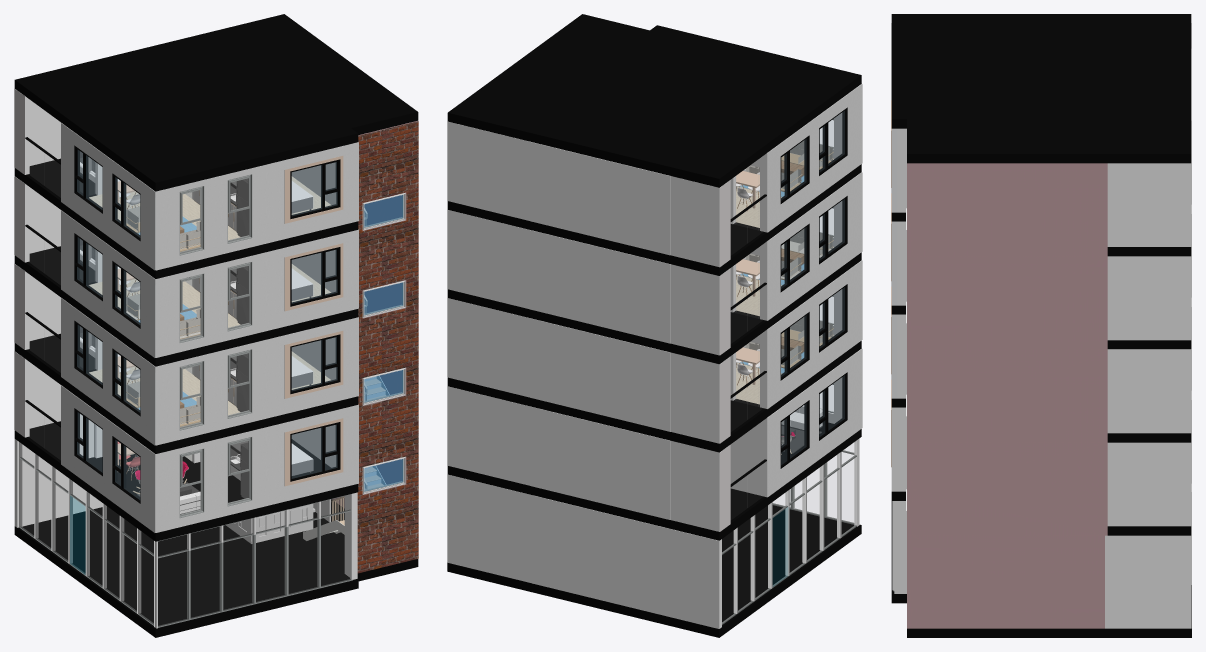
The picture shows the model from 3 angles, left to right: view 1: azimuth 30°, elevation 25°; view 2: azimuth 150°, elevation 25°; view 3: azimuth 270°, elevation 25°; orthographic projection. The views are drawn at different scales.
Visible parts, largest first — view 1: Cube.060, Plane.002, Plane, FamilyInstance Doors MAHG_Suite Door_Ext_Double_Sliding <63, Plane.009, Plane.013, Basic Wall iW2w - 6" WOOD WALL [632022], FamilyInstance Furniture M_Sofa-Corbu <662053 Sofa<, Cube.012; view 2: Cube.060, Plane.002, FamilyInstance Doors MAHG_Suite Door_Ext_Double_Sliding <63, Plane.009, Plane.013, FamilyInstance Furniture M_Sofa-Corbu <662053 Sofa<; view 3: Cube.060, Plane.009.
Part boxes in pixels (x1=…): Cube.060: x1=14, y1=14, x2=418, y2=637; Plane.002: x1=61, y1=123, x2=358, y2=532; Plane: x1=357, y1=121, x2=418, y2=573; FamilyInstance Doors MAHG_Suite Door_Ext_Double_Sliding <63: x1=44, y1=150, x2=403, y2=574; Plane.009: x1=14, y1=89, x2=358, y2=445; Plane.013: x1=89, y1=176, x2=331, y2=415; Basic Wall iW2w - 6" WOOD WALL [632022]: x1=62, y1=123, x2=330, y2=543; FamilyInstance Furniture M_Sofa-Corbu <662053 Sofa<: x1=126, y1=206, x2=200, y2=424; Cube.012: x1=194, y1=190, x2=236, y2=406; Cube.060: x1=447, y1=14, x2=861, y2=637; Plane.002: x1=767, y1=84, x2=862, y2=496; FamilyInstance Doors MAHG_Suite Door_Ext_Double_Sliding <63: x1=733, y1=111, x2=853, y2=586; Plane.009: x1=720, y1=84, x2=861, y2=531; Plane.013: x1=736, y1=159, x2=834, y2=404; FamilyInstance Furniture M_Sofa-Corbu <662053 Sofa<: x1=745, y1=140, x2=832, y2=365; Cube.060: x1=891, y1=14, x2=1191, y2=637; Plane.009: x1=891, y1=23, x2=1191, y2=398.
Bounding box in the file's own units: 32.37 × 52.01 × 29.28.
Materials: 14 (14 with a texture image).
